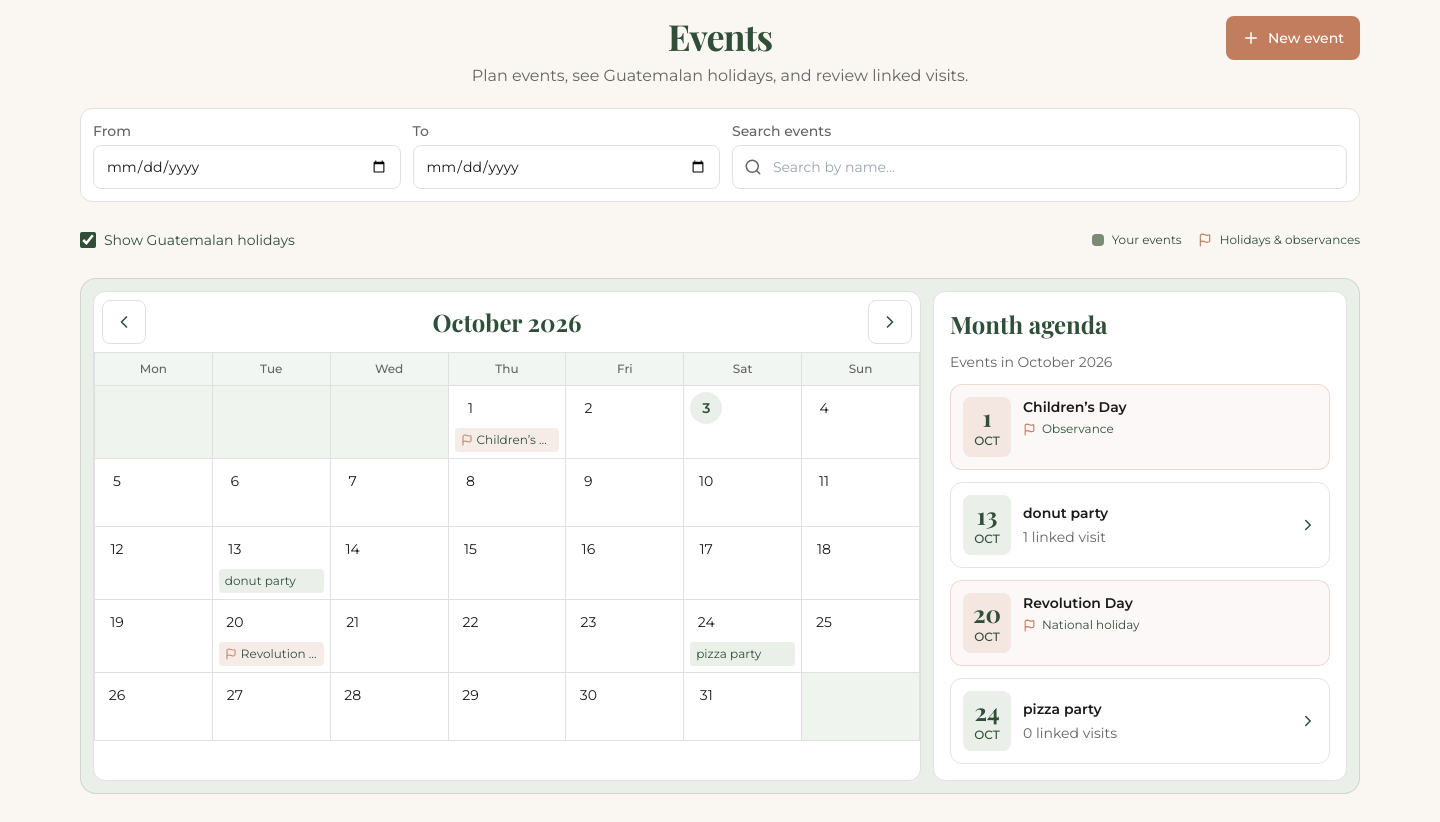
it: EventsPage calendar and agenda › applies date bounds to both calendar and agenda
Expected: the link "13 Oct donut party 1 linked visit" is shown, x1=950 y1=482 x2=1330 y2=568
Type "2026-10-20" into the date field labelled "From" at x=247, y=167, box x1=93 y1=145 x2=400 y2=189
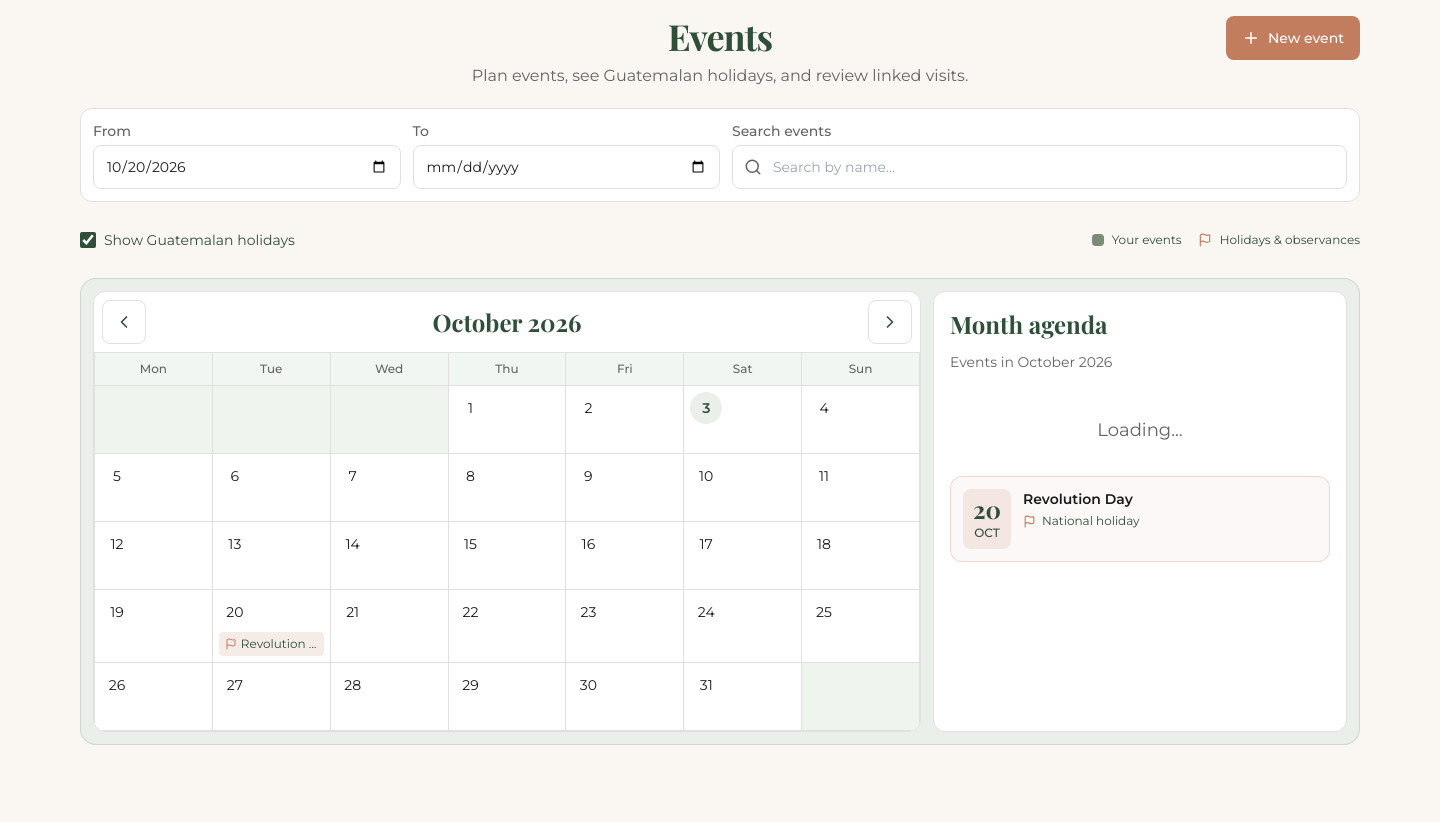
Type "2026-10-31" into the date field labelled "To" at x=566, y=167, box x1=412 y1=145 x2=720 y2=189
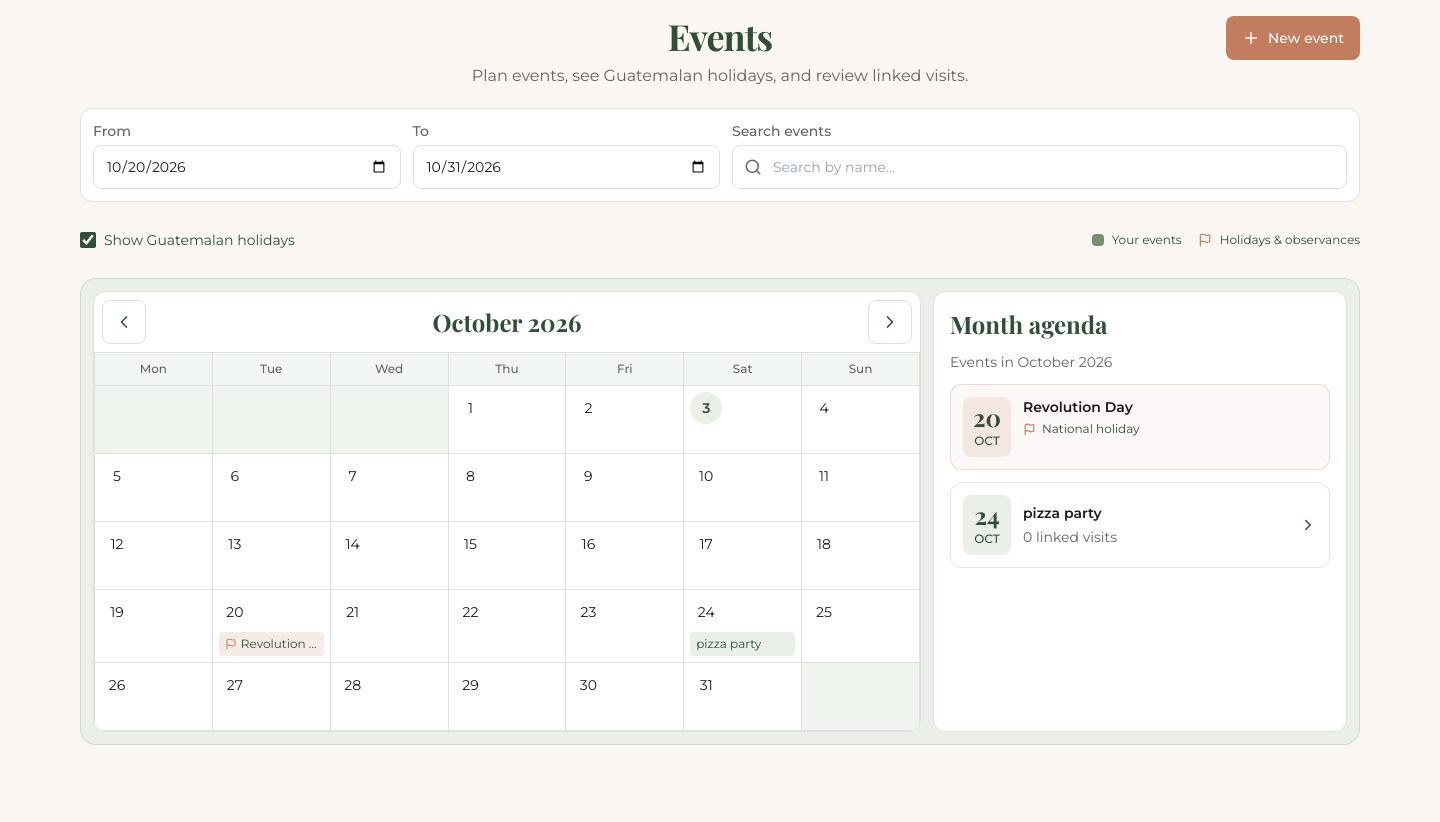
Expected: the link "donut party" is not shown
Expected: the link "24 Oct pizza party 0 linked visits" is shown, x1=950 y1=482 x2=1330 y2=568
